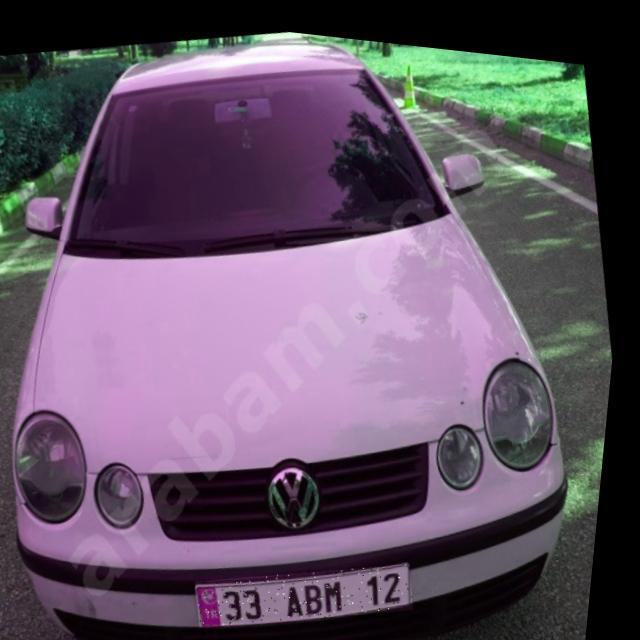license_plate: (203, 535, 429, 640)
